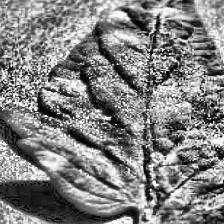leaf mold: (4, 0, 224, 215)
